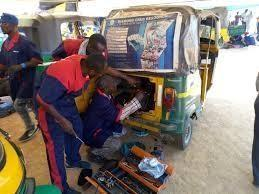keke: (100, 4, 222, 148)
